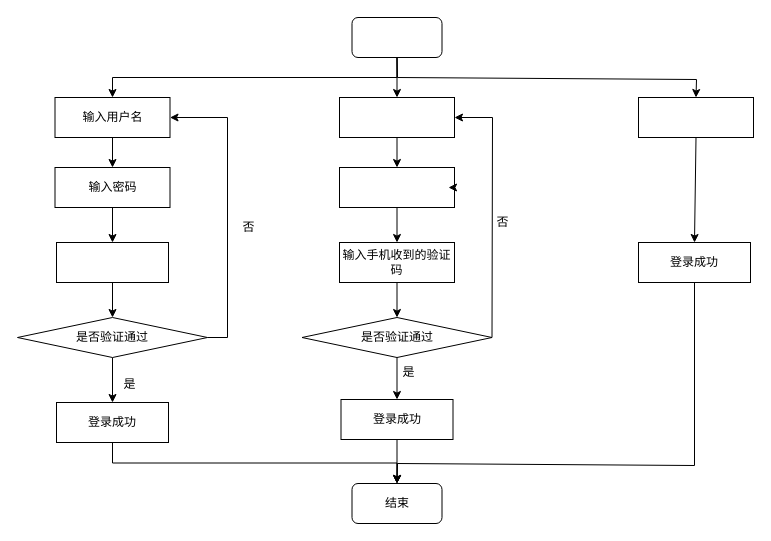
This 771x541 diagram has some shape labels left out. The shapes that lost their labels are listed below. From the top down, each one's box as (x1, y1, x2, y2) in pixels, then its label:
(351, 16, 442, 58): 开始
(338, 96, 454, 138): 输入手机号
(638, 96, 754, 138): APP扫描二维码
(338, 166, 454, 208): 发送验证码
(56, 242, 168, 282): 输入验证码
